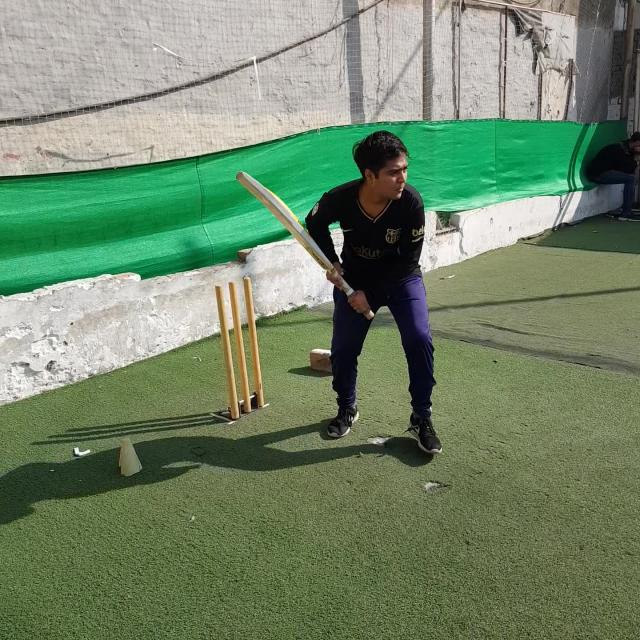bat: (237, 170, 375, 320)
